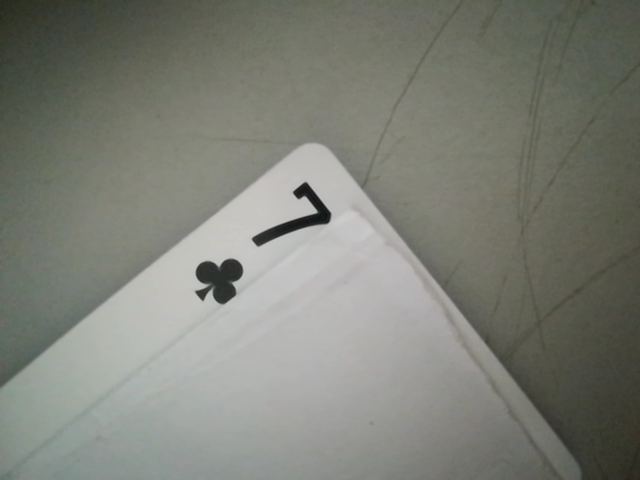mh 7: (171, 173, 362, 306)
